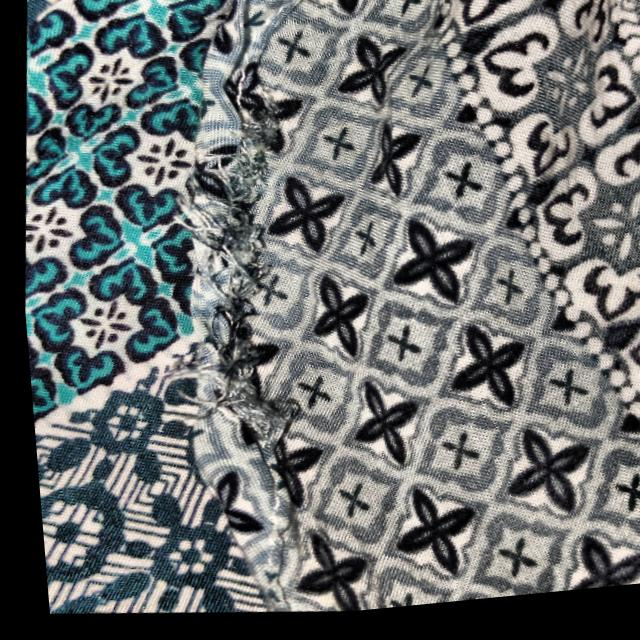Stitch: (109, 44, 327, 477)
